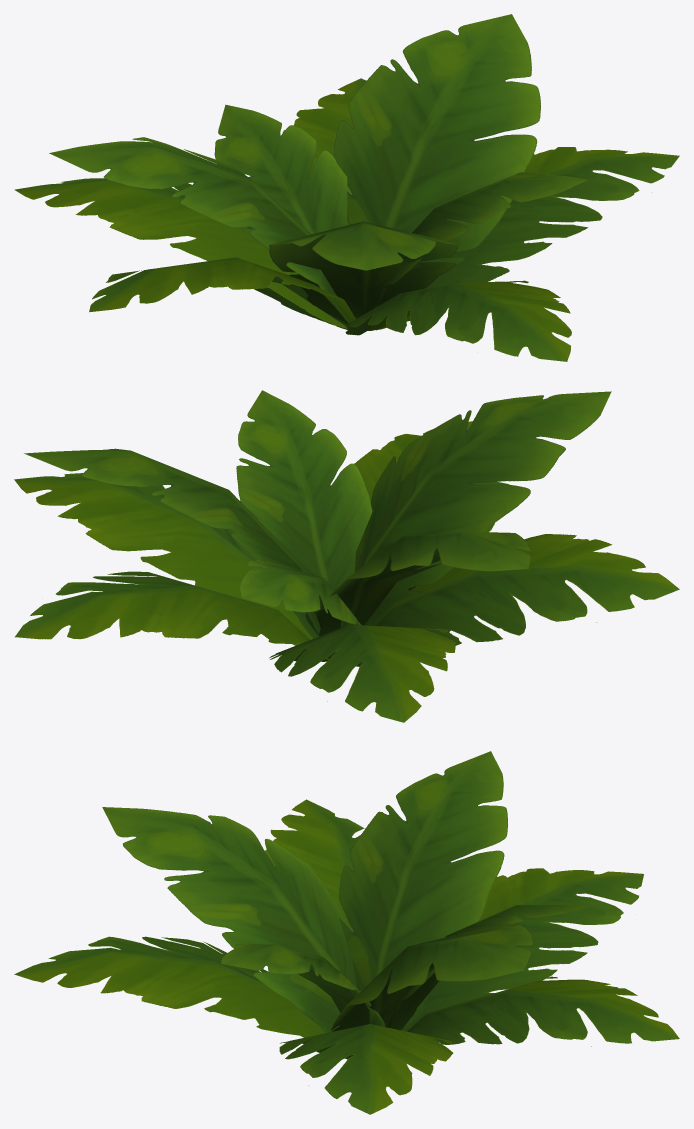
Rendered from Remains_plants_01.fbx.
The picture shows the model from 3 angles, top to bottom: view 1: azimuth 30°, elevation 25°; view 2: azimuth 150°, elevation 25°; view 3: azimuth 270°, elevation 25°; orthographic projection. The views are drawn at different scales.
Visible parts, largest first — view 1: Remains_plant_01; view 2: Remains_plant_01; view 3: Remains_plant_01.
Part boxes in pixels (box(x1,y1,x2,y2)): Remains_plant_01: box(14, 14, 679, 361); Remains_plant_01: box(14, 390, 679, 722); Remains_plant_01: box(14, 751, 679, 1114).
Bounding box in the file's own units: 123 × 39.46 × 117.
Materials: 1 (1 with a texture image).
